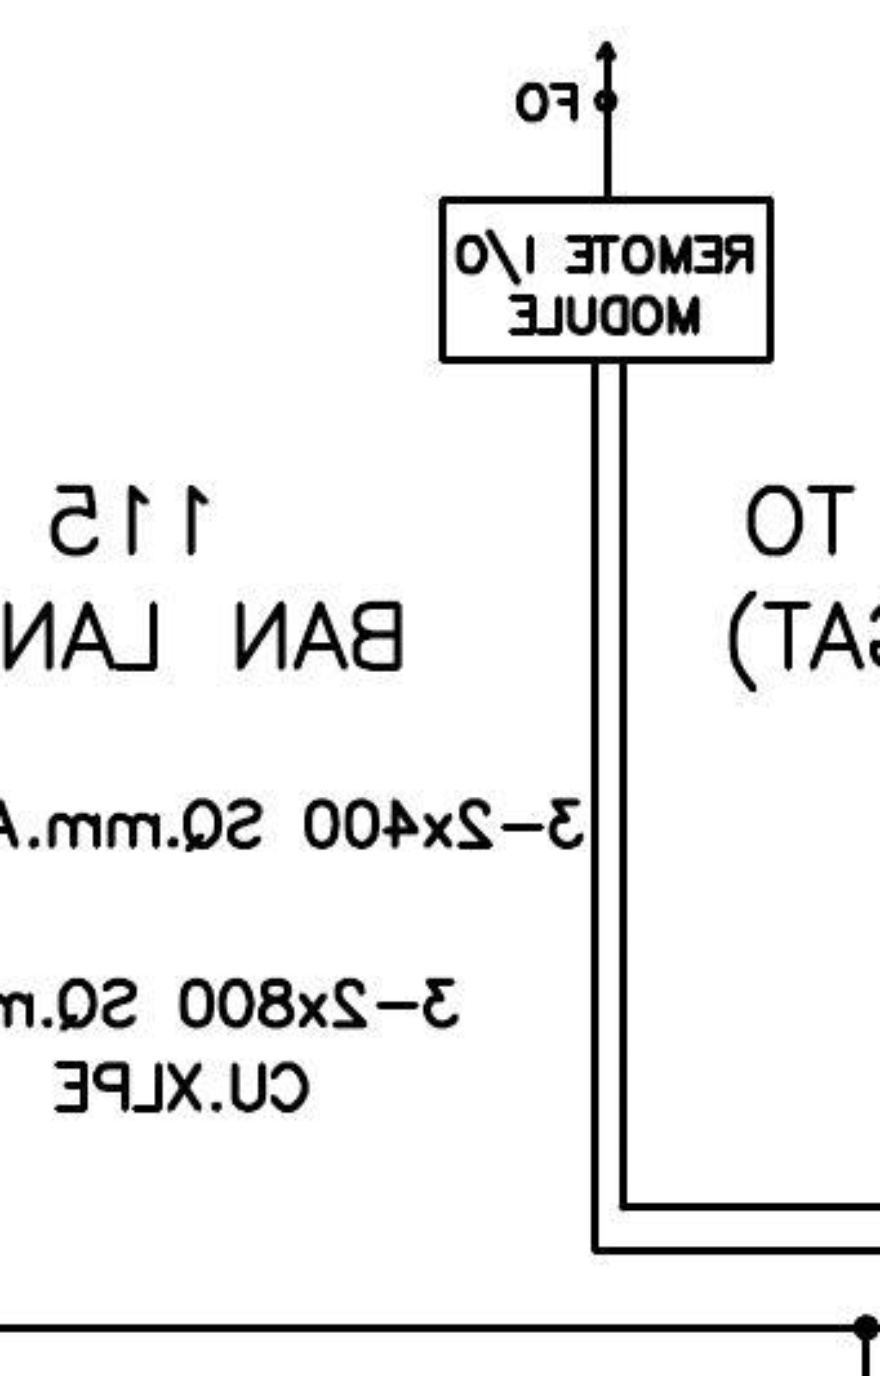remote_io_module: (438, 196, 777, 366)
